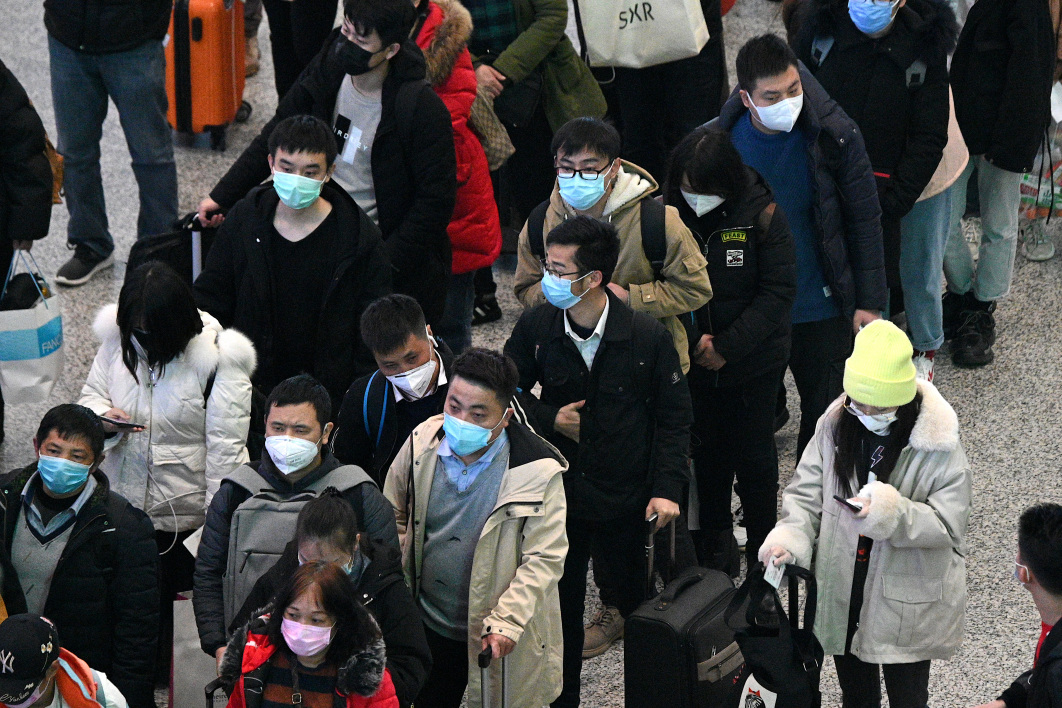with_mask: (338, 17, 384, 80), (261, 415, 316, 465), (448, 393, 496, 450), (275, 150, 322, 206), (286, 599, 330, 656), (40, 438, 84, 491), (561, 155, 604, 206), (849, 392, 898, 435), (539, 257, 581, 304), (759, 83, 802, 128)
